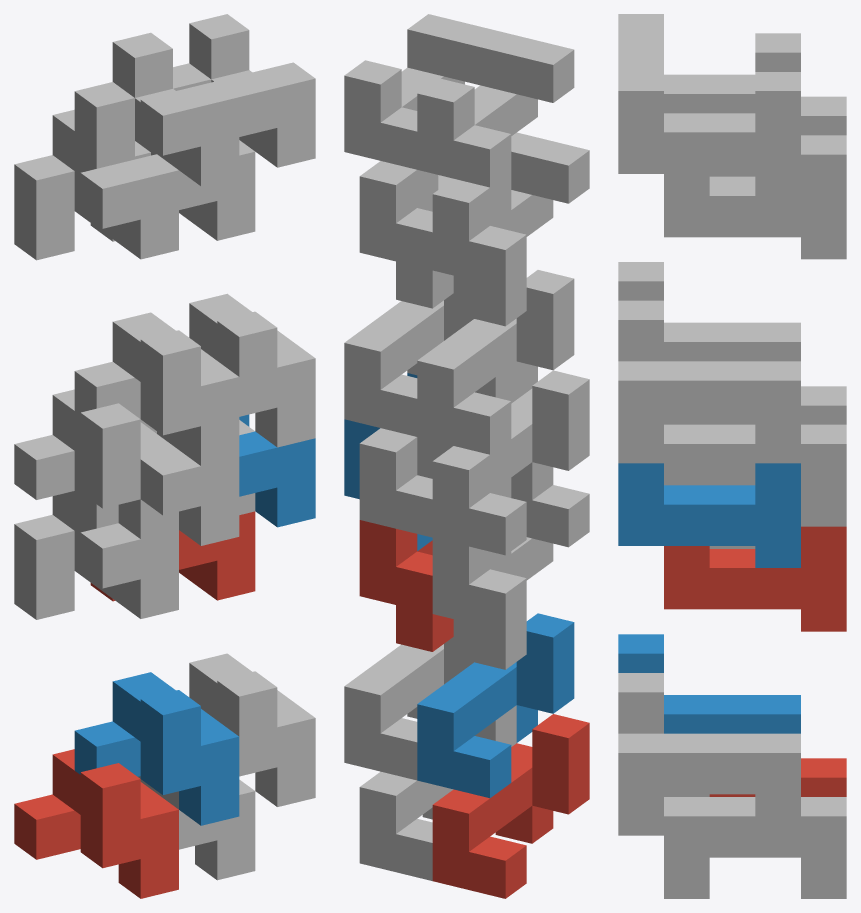
Rendered from tiling.obj.
3 views of the same model, side by side, from view 1: azimuth 30°, elevation 25°; view 2: azimuth 150°, elevation 25°; view 3: azimuth 270°, elevation 25° (orthographic). The views are drawn at different scales.
Visible parts, largest first — view 1: copy_2_domain_4, copy_2_domain_3, copy_1_domain_2, copy_1_domain_4, copy_1_domain_1, copy_2_domain_1, copy_1_domain_3, copy_2_domain_8, copy_1_domain_8, copy_1_domain_6, copy_2_domain_2, copy_2_domain_6 (+4 smaller); view 2: copy_1_domain_1, copy_1_domain_3, copy_1_domain_4, copy_1_domain_2, copy_2_domain_3, copy_2_domain_4, copy_2_domain_1, copy_2_domain_8, copy_1_domain_6, copy_1_domain_8, copy_2_domain_7, copy_1_domain_5 (+4 smaller); view 3: copy_1_domain_6, copy_1_domain_8, copy_2_domain_8, copy_2_domain_6, copy_2_domain_7, copy_1_domain_5, copy_2_domain_5, copy_1_domain_7, copy_1_domain_4, copy_2_domain_4, copy_1_domain_2, copy_2_domain_3 (+2 smaller).
Part boxes in pixels (x1=…): copy_2_domain_4: x1=74, y1=32, x2=239, y2=186; copy_2_domain_3: x1=14, y1=109, x2=178, y2=260; copy_1_domain_2: x1=74, y1=672, x2=239, y2=825; copy_1_domain_4: x1=74, y1=312, x2=239, y2=465; copy_1_domain_1: x1=14, y1=749, x2=178, y2=898; copy_2_domain_1: x1=14, y1=491, x2=178, y2=619; copy_1_domain_3: x1=14, y1=389, x2=178, y2=538; copy_2_domain_8: x1=151, y1=14, x2=315, y2=167; copy_1_domain_8: x1=189, y1=293, x2=315, y2=447; copy_1_domain_6: x1=189, y1=653, x2=315, y2=806; copy_2_domain_2: x1=74, y1=416, x2=239, y2=545; copy_2_domain_6: x1=239, y1=414, x2=315, y2=527; copy_1_domain_1: x1=432, y1=714, x2=589, y2=898; copy_1_domain_3: x1=432, y1=370, x2=589, y2=555; copy_1_domain_4: x1=417, y1=270, x2=574, y2=454; copy_1_domain_2: x1=417, y1=613, x2=574, y2=798; copy_2_domain_3: x1=432, y1=132, x2=589, y2=326; copy_2_domain_4: x1=417, y1=32, x2=574, y2=225; copy_2_domain_1: x1=432, y1=485, x2=589, y2=669; copy_2_domain_8: x1=344, y1=14, x2=500, y2=207; copy_1_domain_6: x1=344, y1=619, x2=473, y2=780; copy_1_domain_8: x1=344, y1=275, x2=473, y2=436; copy_2_domain_7: x1=359, y1=161, x2=453, y2=308; copy_1_domain_5: x1=359, y1=705, x2=516, y2=880; copy_1_domain_6: x1=618, y1=673, x2=800, y2=835; copy_1_domain_8: x1=618, y1=300, x2=800, y2=463; copy_2_domain_8: x1=618, y1=52, x2=800, y2=195; copy_2_domain_6: x1=618, y1=463, x2=800, y2=567; copy_2_domain_7: x1=664, y1=135, x2=846, y2=259; copy_1_domain_5: x1=664, y1=794, x2=846, y2=898; copy_2_domain_5: x1=664, y1=526, x2=846, y2=631; copy_1_domain_7: x1=664, y1=422, x2=846, y2=526; copy_1_domain_4: x1=618, y1=262, x2=800, y2=361; copy_2_domain_4: x1=618, y1=14, x2=800, y2=113; copy_1_domain_2: x1=618, y1=634, x2=800, y2=733; copy_2_domain_3: x1=709, y1=96, x2=846, y2=176.
Bounding box in the file's own units: 5 × 20 × 5.
